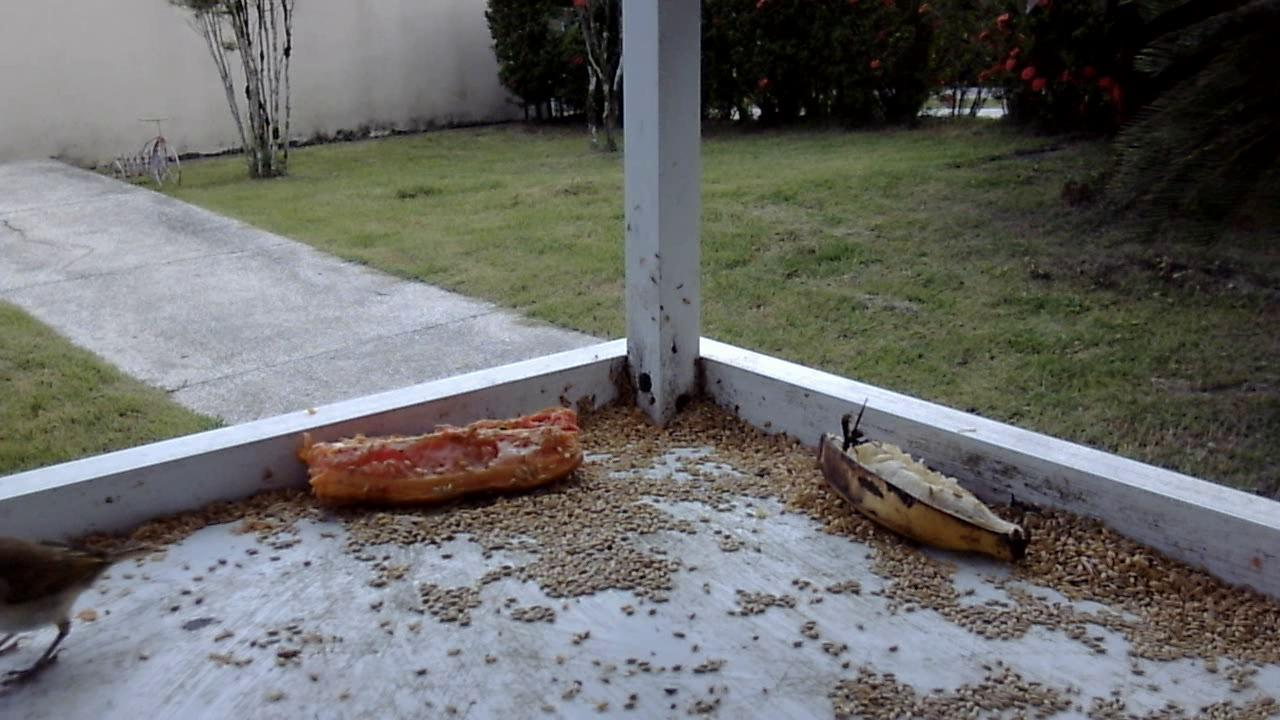canario_do_amazonas: (1, 515, 178, 685)
